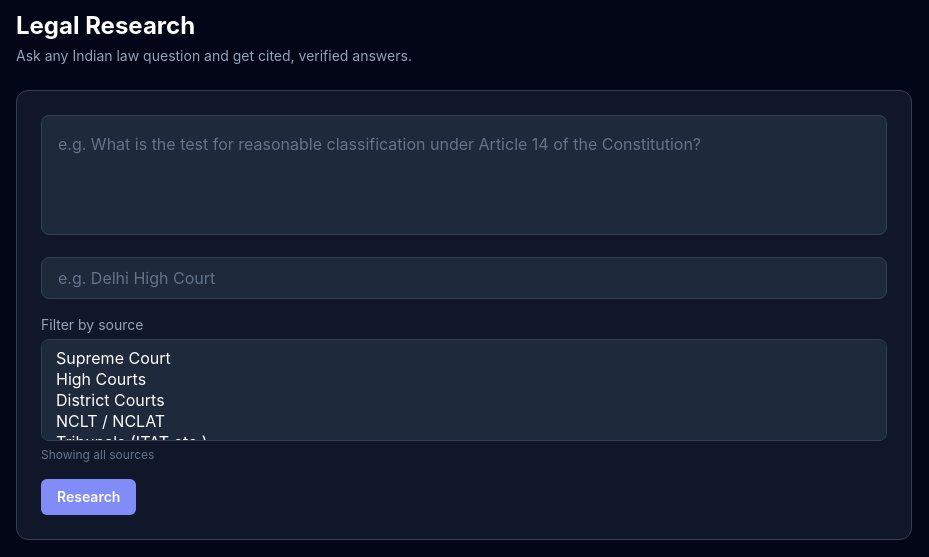
Test: ResearchPage › Research button is not disabled when textarea has content
The width and height of the screenshot is (929, 557).
In the text box with placeholder "reasonable classification under Article 14": (464, 175) [41,115,887,235], type "What is Article 14?"
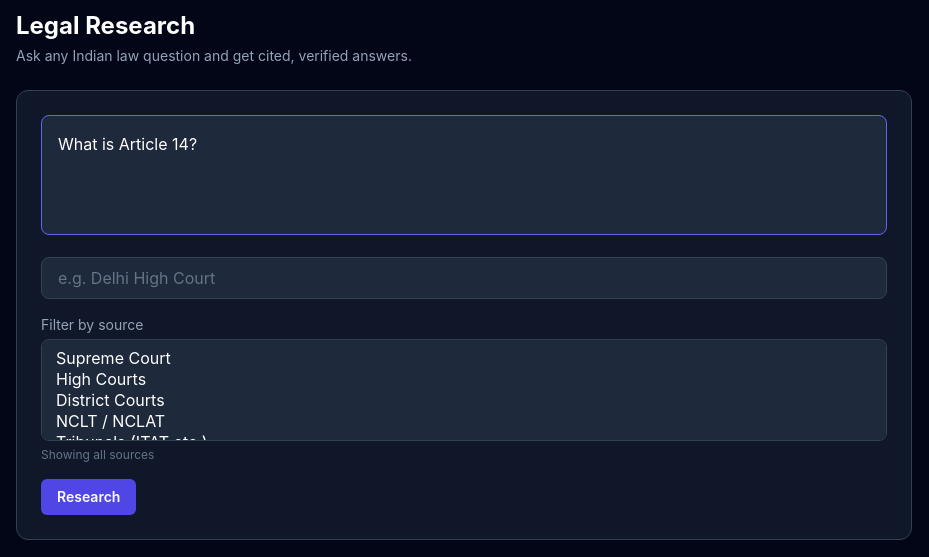
Check: the button "Research" is enabled, box [41,479,136,515]
